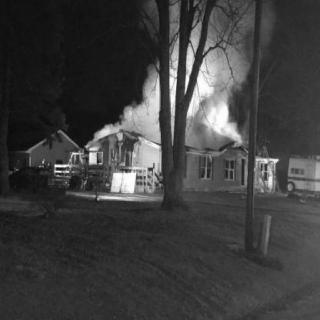Smoke: (130, 42, 239, 146), (92, 110, 126, 140)
other: (111, 172, 137, 192)
